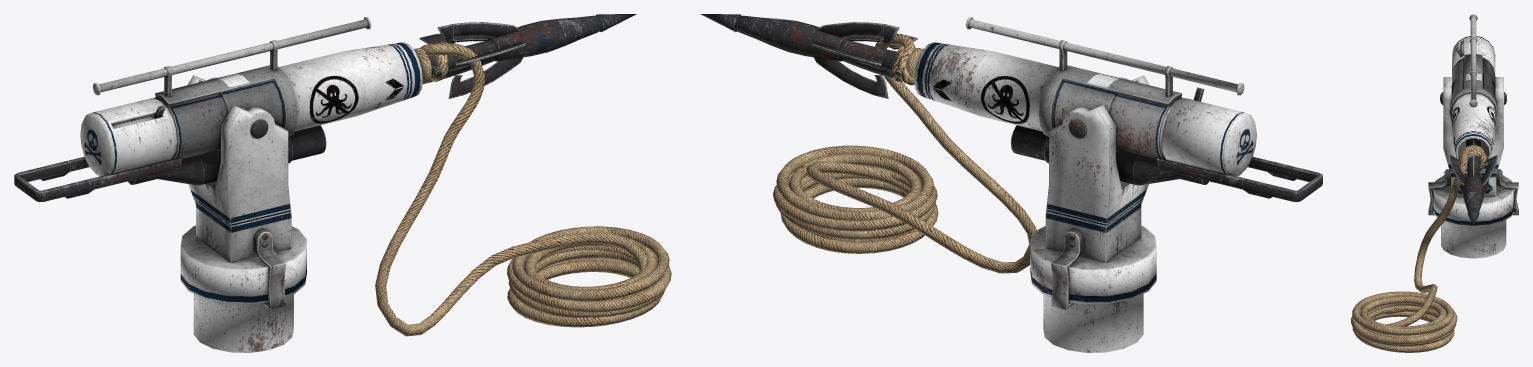
The model's file is Octo-Ex.fbx.
3 views of the same model, side by side, from view 1: azimuth 30°, elevation 25°; view 2: azimuth 150°, elevation 25°; view 3: azimuth 270°, elevation 25° (orthographic). The views are drawn at different scales.
Parts seen in each view (by area): view 1: Harpoon gun, Harpoon rope; view 2: Harpoon gun, Harpoon rope; view 3: Harpoon gun, Harpoon rope.
Boxes of the visible parts, left/top/right/bottom form: Harpoon gun: left=14, top=14, right=636, bottom=352; Harpoon rope: left=375, top=43, right=671, bottom=336; Harpoon gun: left=700, top=14, right=1322, bottom=352; Harpoon rope: left=773, top=34, right=1036, bottom=273; Harpoon gun: left=1428, top=14, right=1518, bottom=258; Harpoon rope: left=1351, top=145, right=1487, bottom=352.
Size of the model in its own units: 118 by 53.48 by 43.51.
